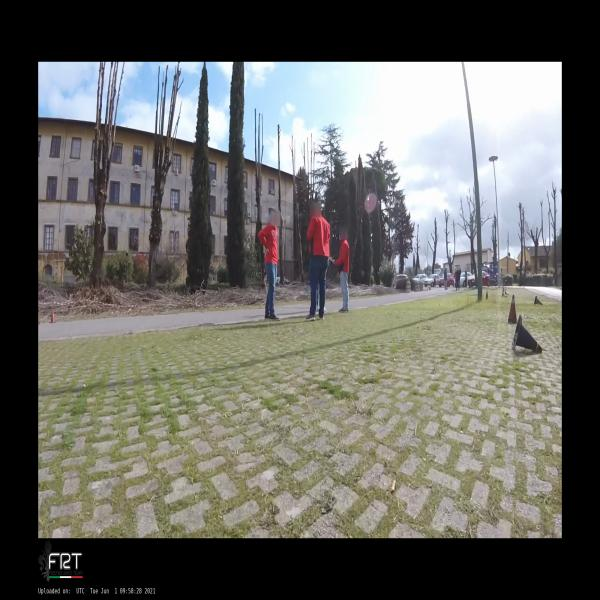unknown_cone: (511, 314, 542, 353), (507, 295, 518, 323), (49, 309, 56, 323), (534, 296, 543, 305), (502, 291, 507, 298), (486, 290, 488, 300)
